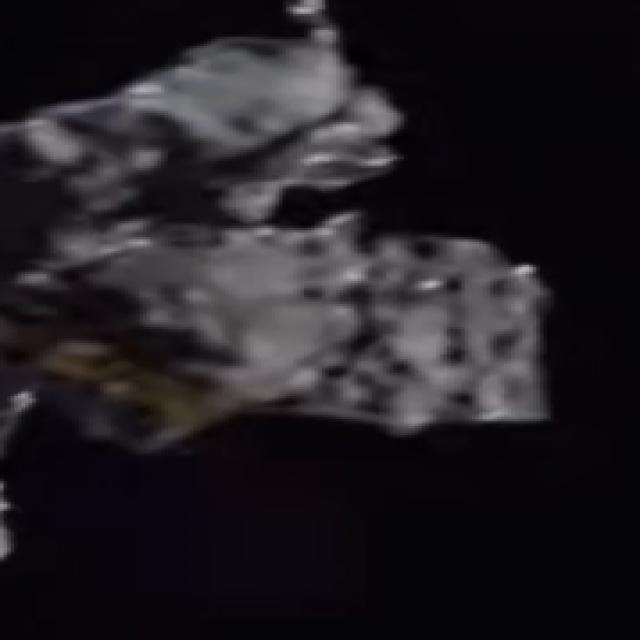large_debris: (0, 6, 566, 476)
